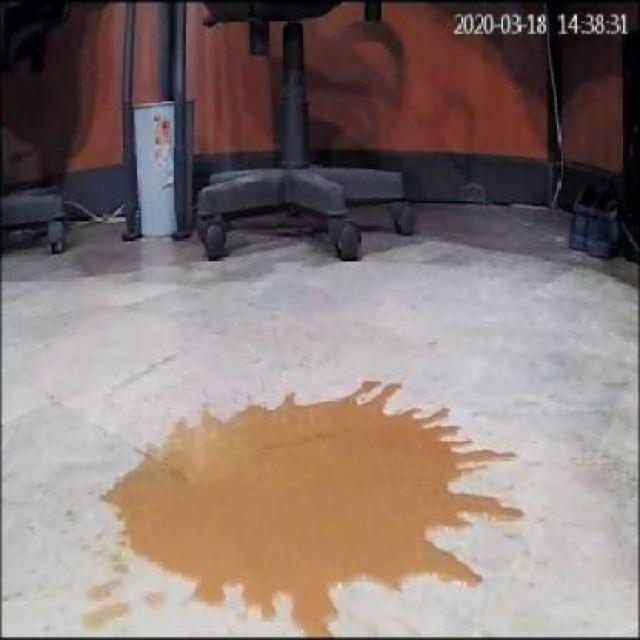spillage: (99, 380, 524, 634)
